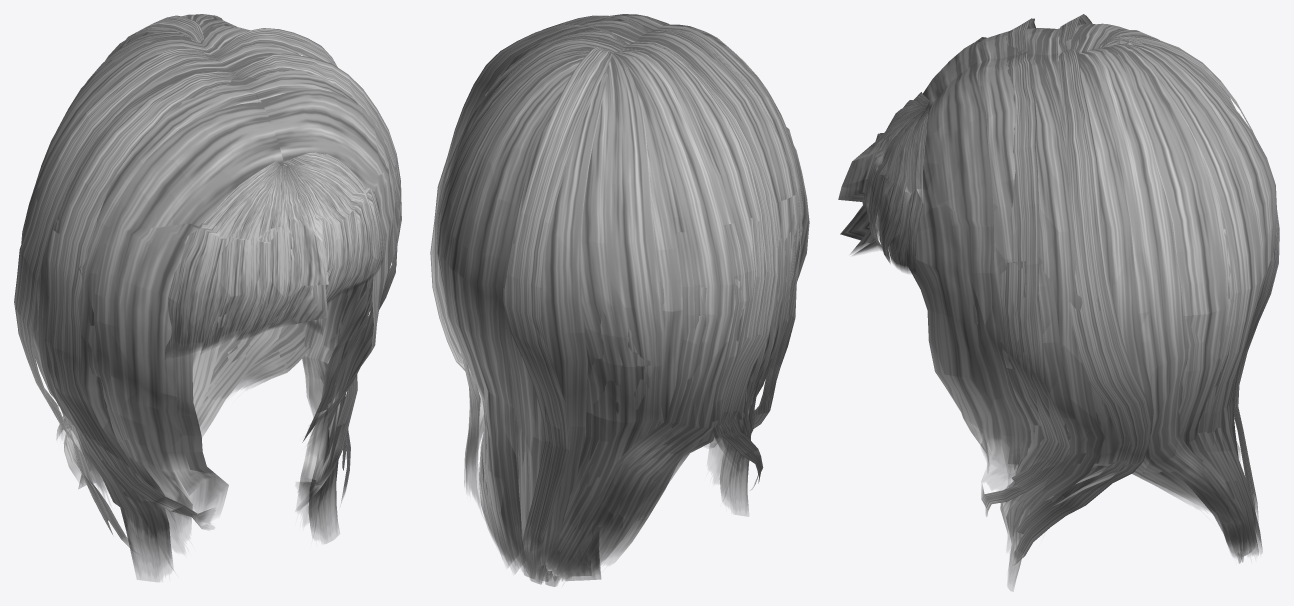
The model's file is hair_short04.glb.
3 views of the same model, side by side, from view 1: azimuth 30°, elevation 25°; view 2: azimuth 150°, elevation 25°; view 3: azimuth 270°, elevation 25° (orthographic). The views are drawn at different scales.
Parts seen in each view (by area): view 1: hair_short04; view 2: hair_short04; view 3: hair_short04.
Boxes of the visible parts, <box> form: hair_short04: <box>14,14,401,581</box>; hair_short04: <box>430,14,809,586</box>; hair_short04: <box>838,14,1279,590</box>.
Bounding box in the file's own units: 0.2048 × 0.2917 × 0.2233.
1 material, 1 textured.
